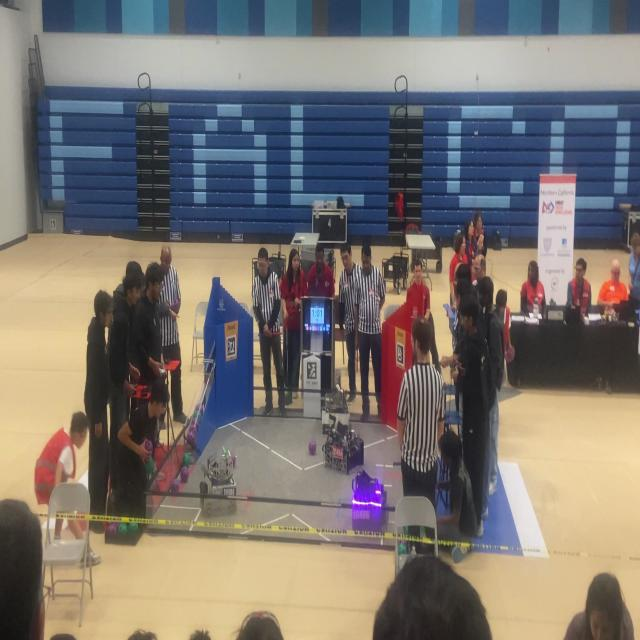artifact_green: (182, 452, 193, 467), (144, 439, 154, 454), (146, 459, 155, 475), (180, 467, 189, 483), (169, 479, 179, 493), (118, 522, 128, 534), (190, 418, 199, 431), (108, 523, 118, 534), (129, 523, 138, 534), (195, 403, 204, 413), (194, 411, 201, 421)
artifact_purple: (187, 425, 196, 448), (180, 467, 189, 483), (169, 479, 179, 493), (308, 439, 316, 456), (144, 439, 153, 454), (108, 523, 118, 533), (118, 523, 127, 534), (190, 419, 199, 430), (196, 404, 204, 415), (231, 453, 236, 467), (194, 411, 201, 420)
